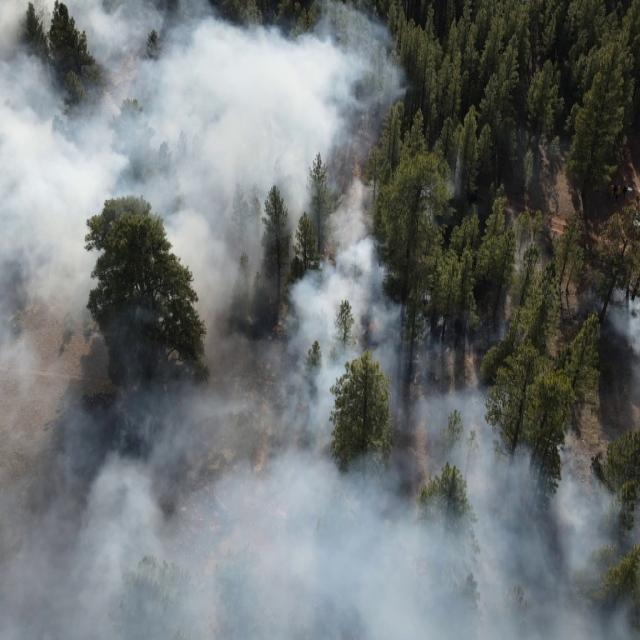fire: (270, 326, 284, 336), (366, 322, 378, 332)
smoke: (0, 0, 409, 640), (409, 174, 640, 640)
